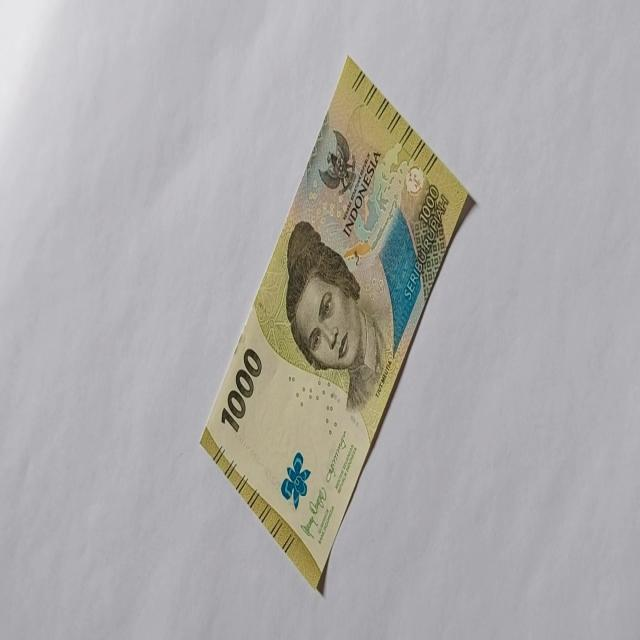seribu rupiah kertas: (198, 53, 477, 593)
